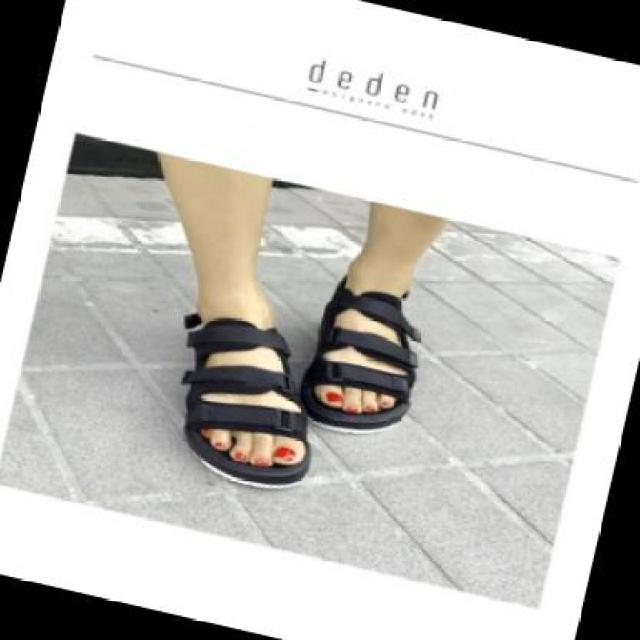Sandals: (182, 303, 331, 492), (294, 288, 424, 438)
